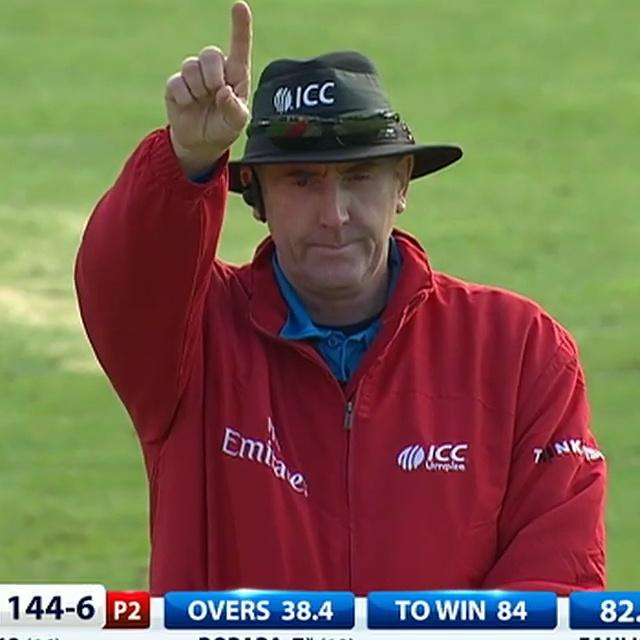umpire: (43, 0, 640, 595)
